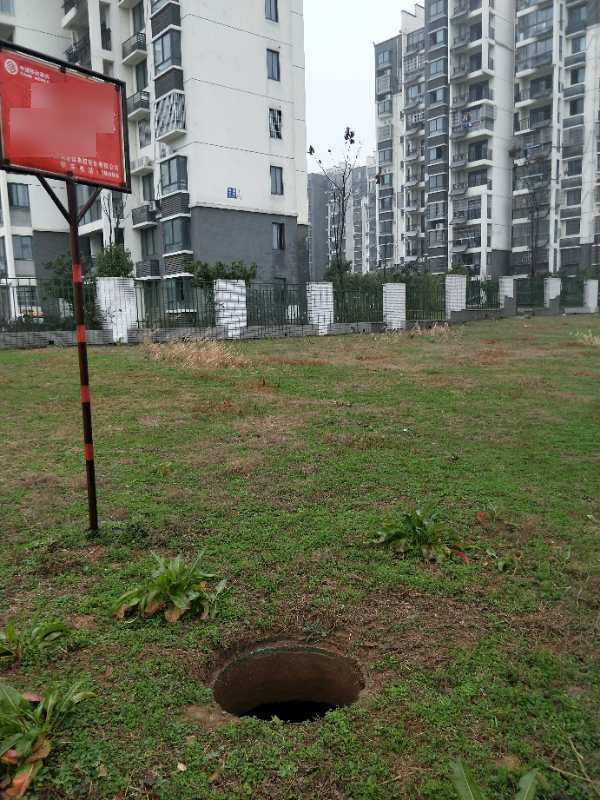lose: (209, 639, 369, 729)
